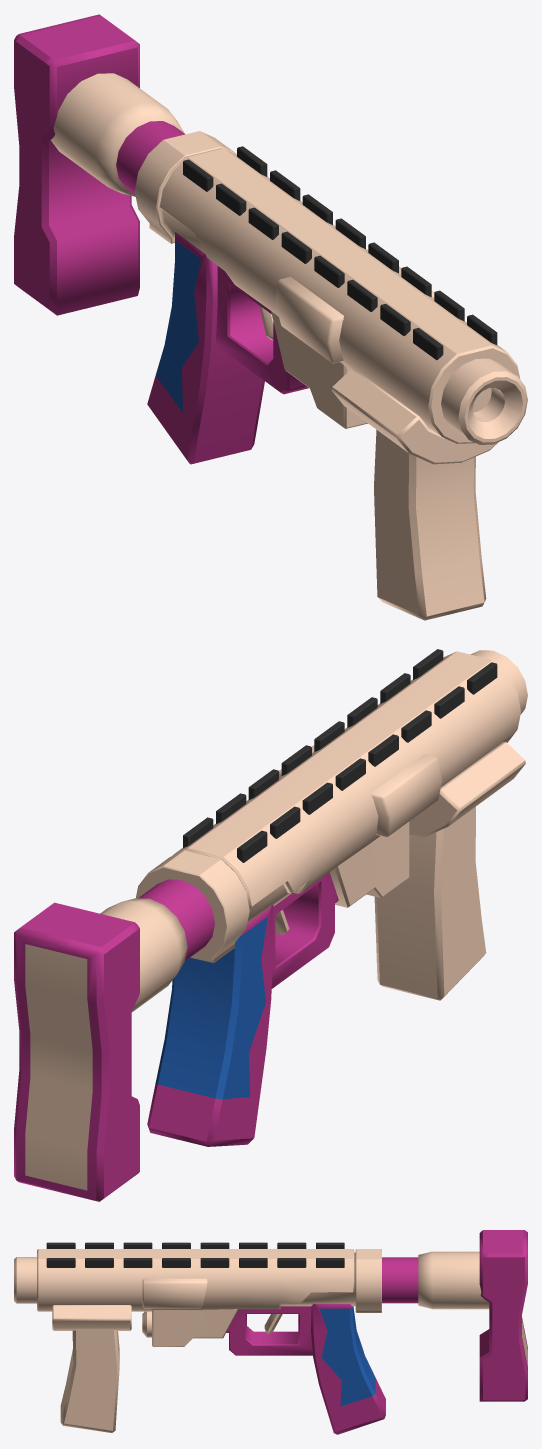
File: ios_gun.fbx
3 views of the same model, one above another, from view 1: azimuth 30°, elevation 25°; view 2: azimuth 150°, elevation 25°; view 3: azimuth 270°, elevation 25° (orthographic). The views are drawn at different scales.
Parts seen in each view (by area): view 1: ios_gun; view 2: ios_gun; view 3: ios_gun.
Boxes of the visible parts, box(x1,y1,x2,y2) form: ios_gun: box(14, 14, 527, 620); ios_gun: box(14, 649, 527, 1201); ios_gun: box(14, 1230, 527, 1434).
Size of the model in its own units: 2.78 by 6.5 by 16.37.
